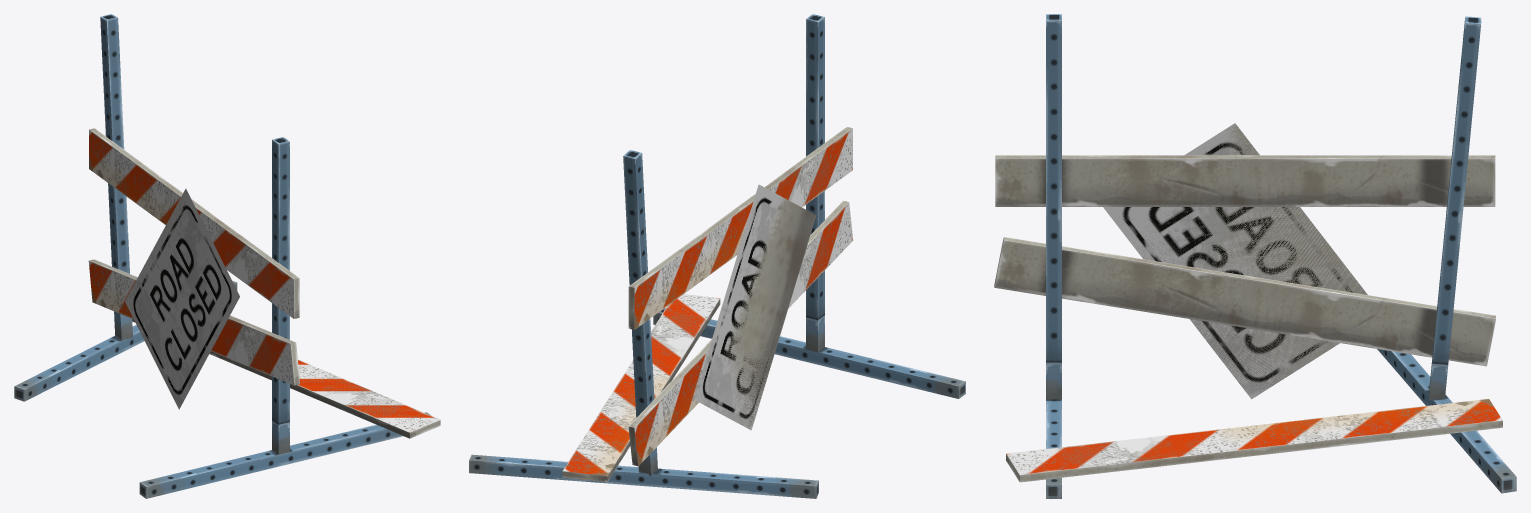
Rendered from trafficBarricade04_B.fbx.
3 views of the same model, side by side, from view 1: azimuth 30°, elevation 25°; view 2: azimuth 150°, elevation 25°; view 3: azimuth 270°, elevation 25° (orthographic). The views are drawn at different scales.
Parts seen in each view (by area): view 1: trafficBarricade04_B; view 2: trafficBarricade04_B; view 3: trafficBarricade04_B.
Boxes of the visible parts, x1,y1,x2,y2 form: trafficBarricade04_B: (14,14,440,498); trafficBarricade04_B: (469,14,965,498); trafficBarricade04_B: (994,14,1516,498).
Size of the model in its own units: 152 by 164 by 196.
